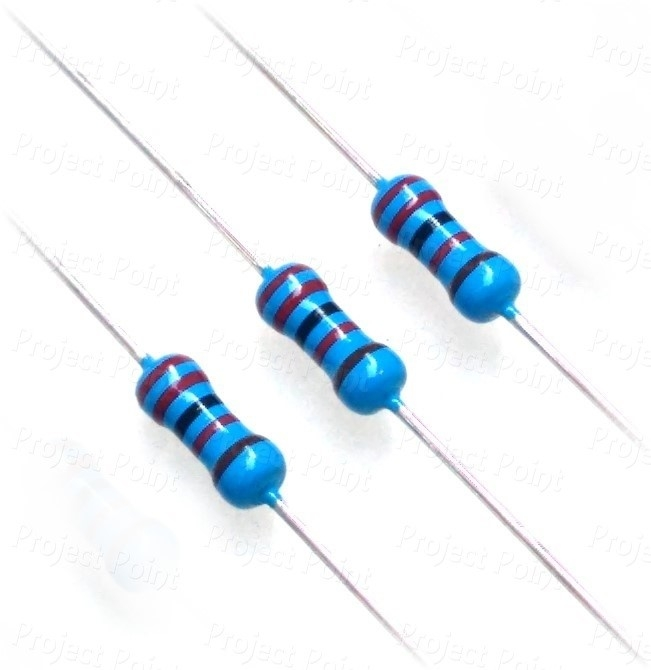resistor: (109, 319, 320, 541), (225, 228, 435, 444), (341, 140, 551, 356)
